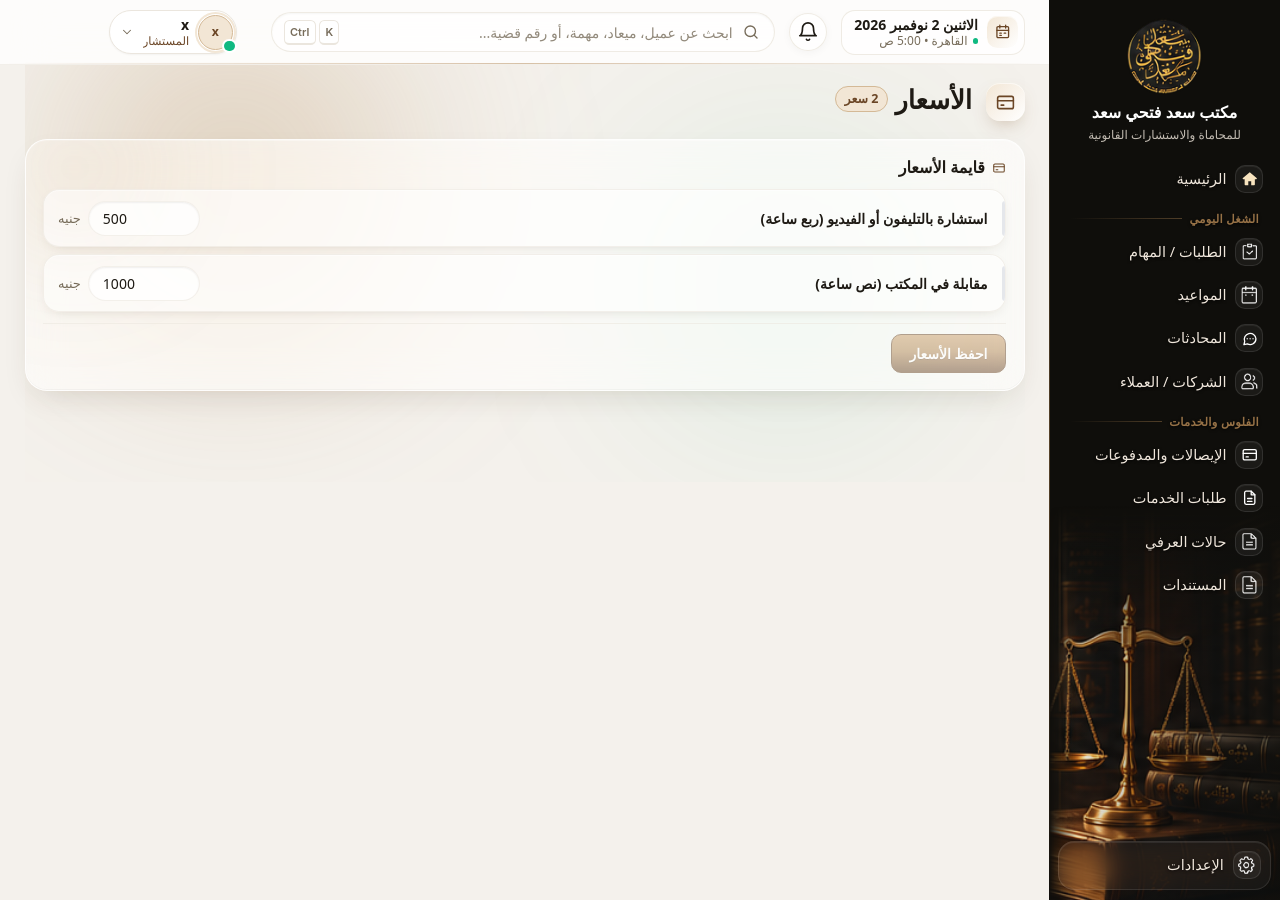
Test: TASK 06 prices › the lawyer changes a price after confirming, and only that line is saved
The width and height of the screenshot is (1280, 900).
Replace the text in the number field labelled "استشارة بالتليفون أو الفيديو (ربع ساعة)" with "600" at (144, 218), box left=88, top=201, right=200, bottom=236
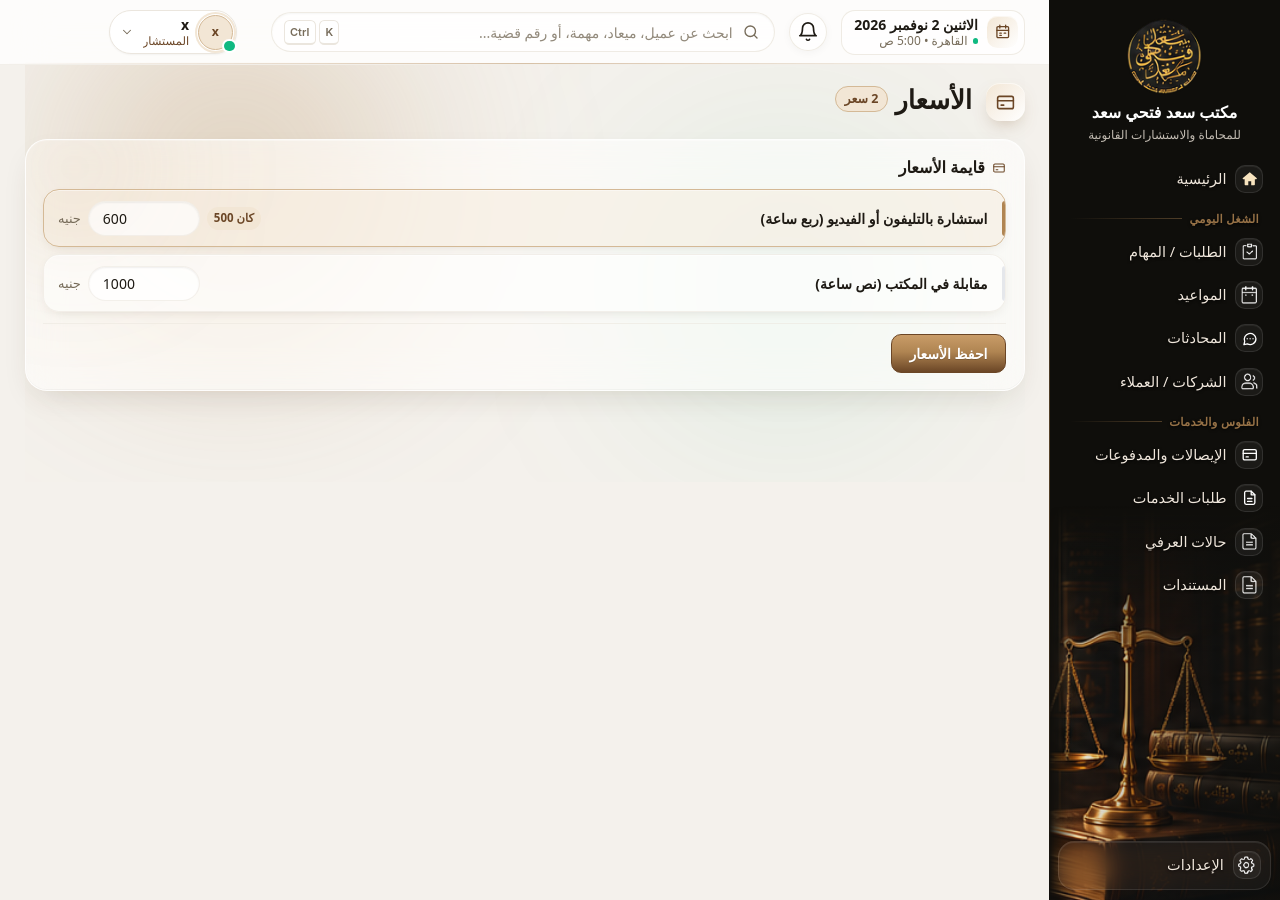
Click the button "احفظ الأسعار" at (948, 354), box left=891, top=334, right=1006, bottom=373
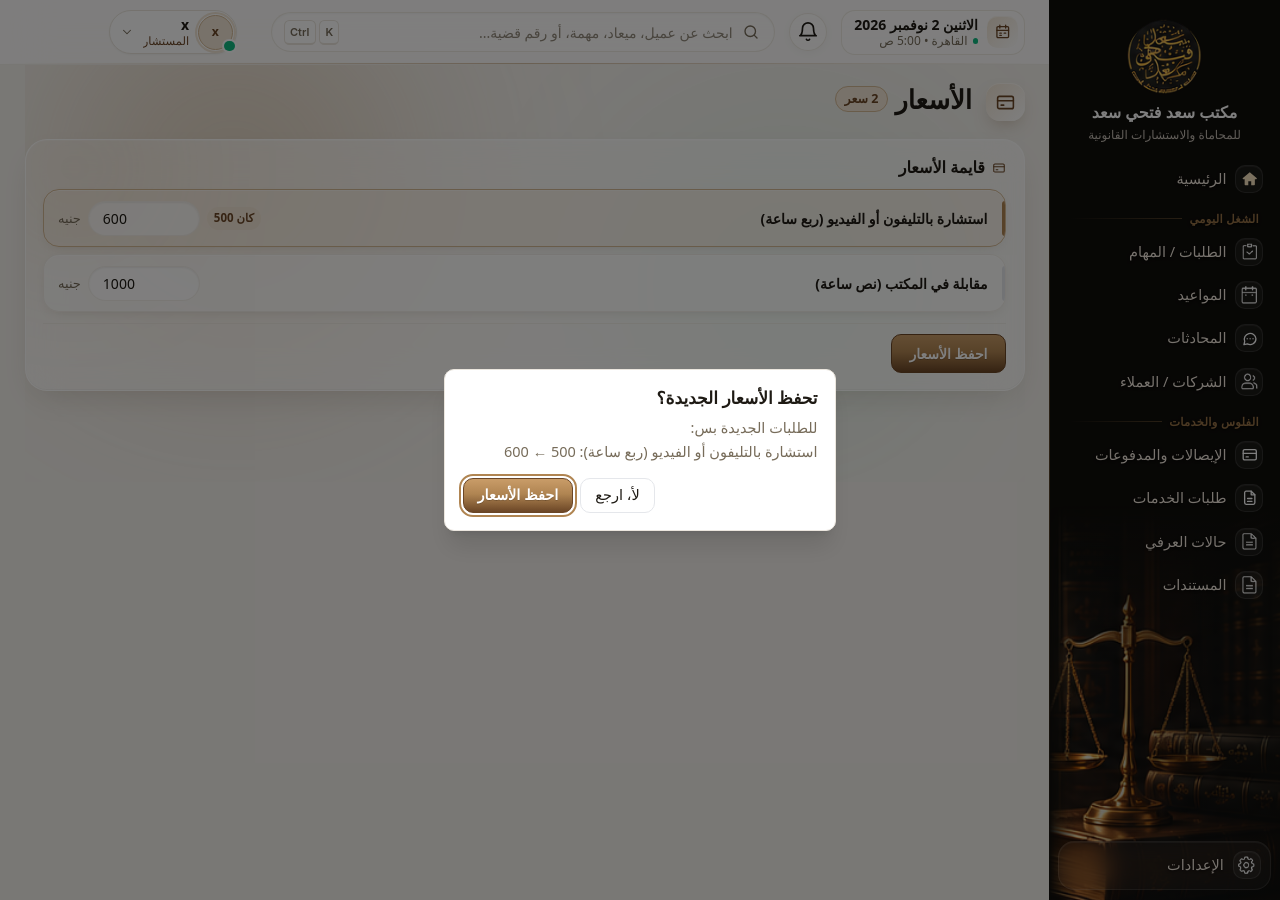
Expected: the dialog shows "للطلبات الجديدة بس", left=504, top=417, right=818, bottom=461
Click the button "احفظ الأسعار" at (518, 495), box left=462, top=478, right=573, bottom=512
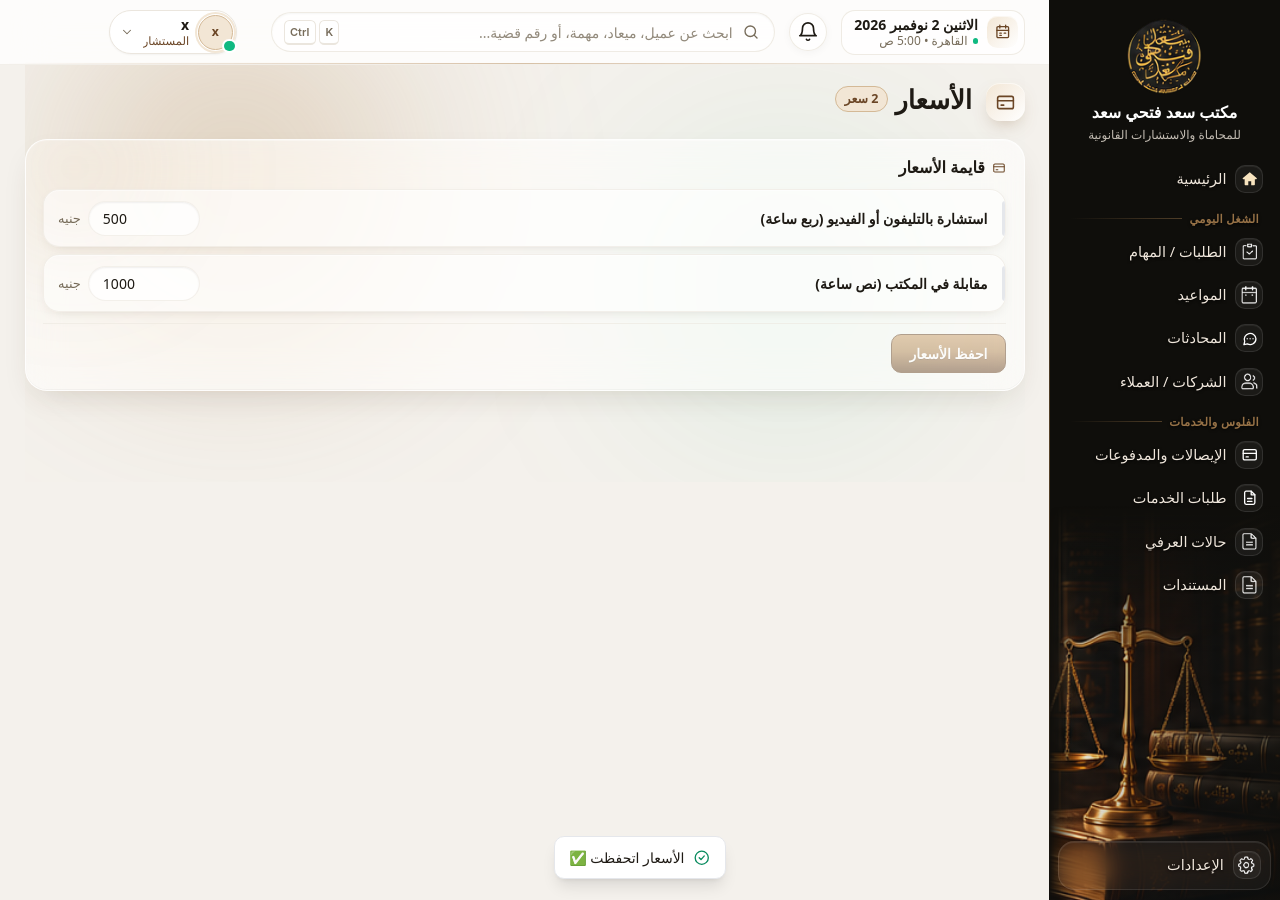
Expected: the text "الأسعار اتحفظت ✅" is shown, left=554, top=836, right=726, bottom=879
